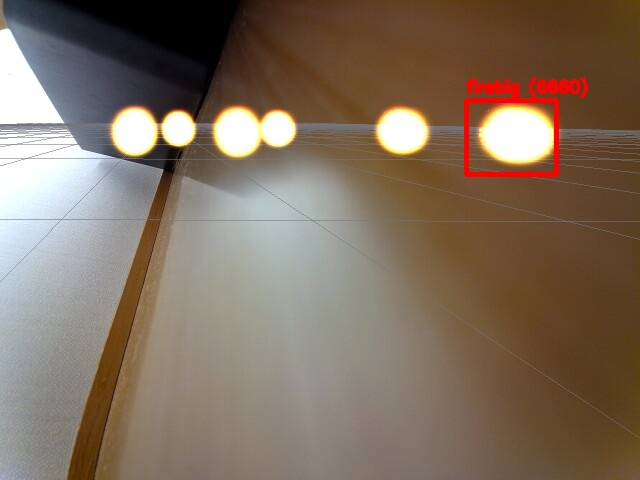firebig: (466, 100, 556, 174)
